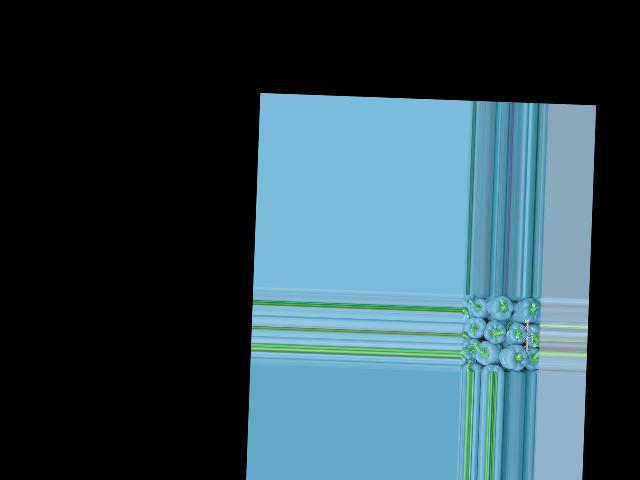bell_pepper: (522, 345, 539, 373)
